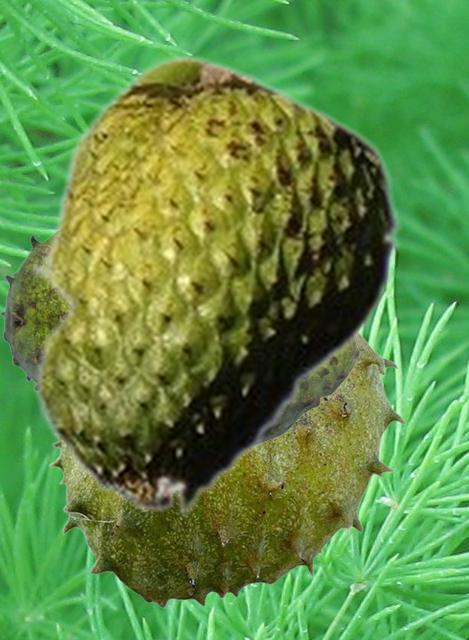guyabano: (28, 53, 401, 519), (47, 334, 405, 607), (0, 231, 359, 444)
